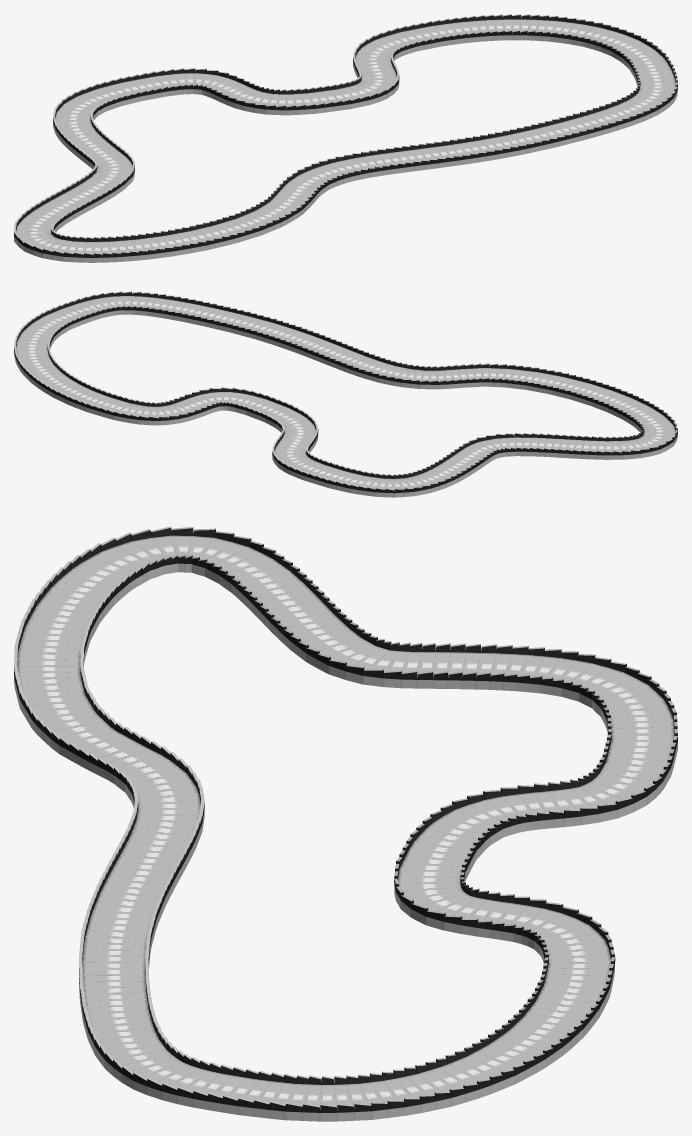
File: track3.glb
The picture shows the model from 3 angles, top to bottom: view 1: azimuth 30°, elevation 25°; view 2: azimuth 150°, elevation 25°; view 3: azimuth 270°, elevation 25°; orthographic projection. The views are drawn at different scales.
Visible parts, largest first — view 1: Track-col; view 2: Track-col; view 3: Track-col.
Boxes of the visible parts, x1,y1,x2,y2 form: Track-col: (14, 14, 677, 262); Track-col: (14, 291, 677, 497); Track-col: (14, 526, 677, 1121).
Size of the model in its own units: 171 by 2.27 by 82.8.
Materials: 1 (1 with a texture image).
